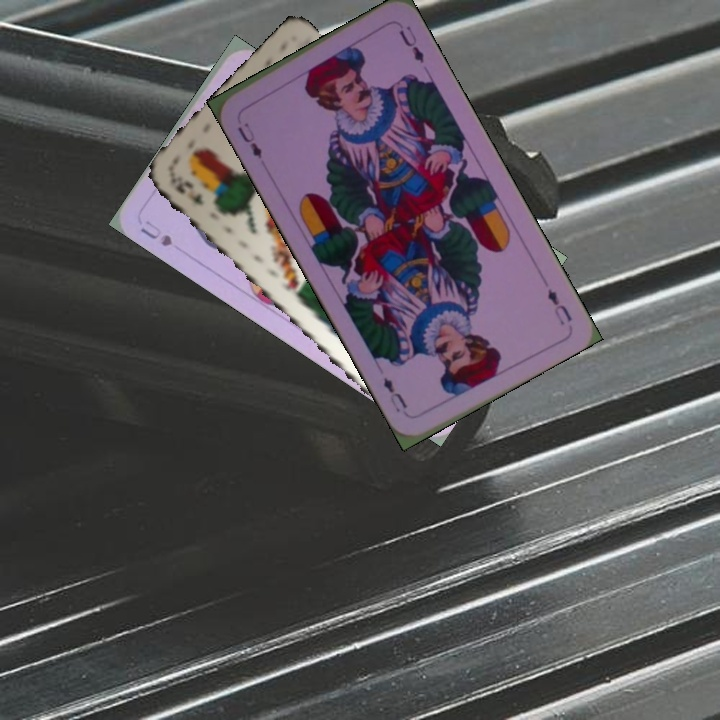EK: (171, 173, 207, 208)
EU: (543, 284, 575, 328), (233, 119, 265, 162)
SU: (136, 216, 175, 249)
